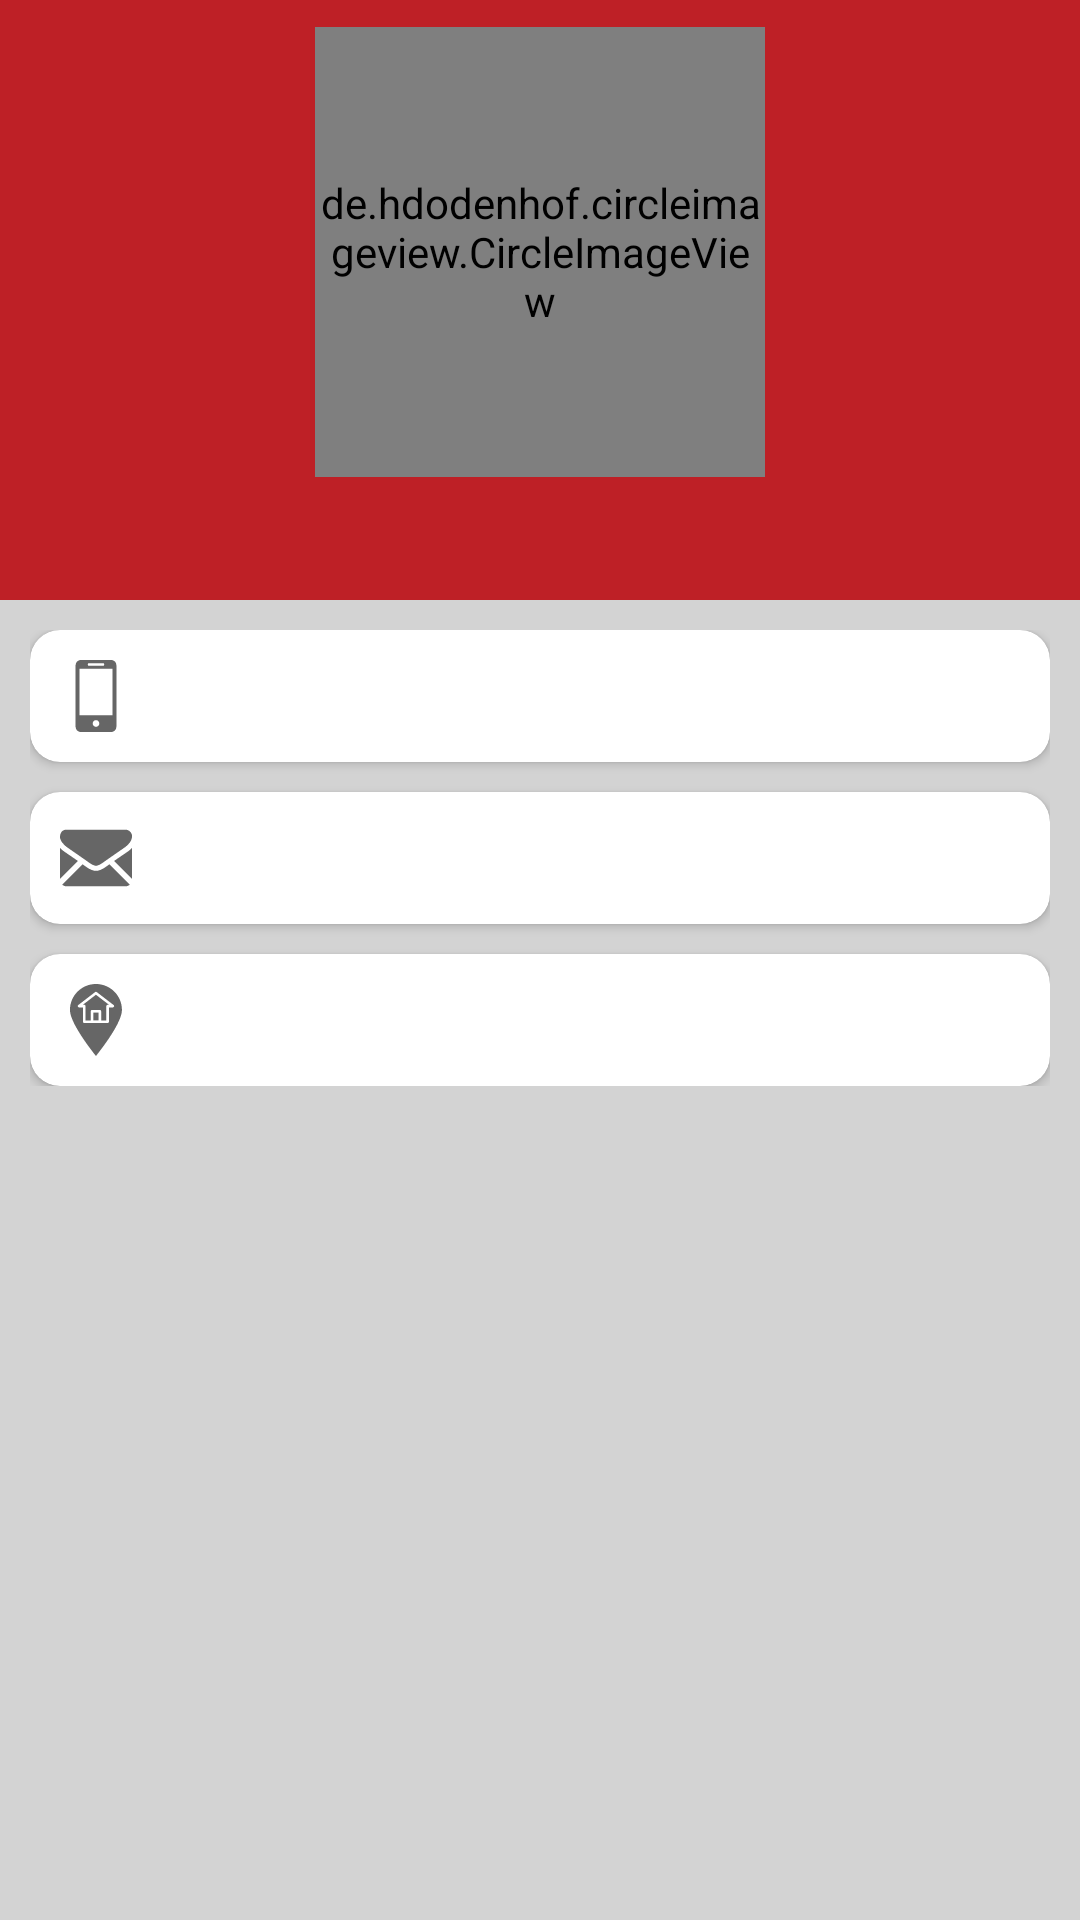

Icons on this 1080*1920 Android screen, each with the point to tap as (x=x, y=y):
addressicon: (x=96, y=1020)
emailicon: (x=96, y=858)
mobileicon: (x=96, y=696)
